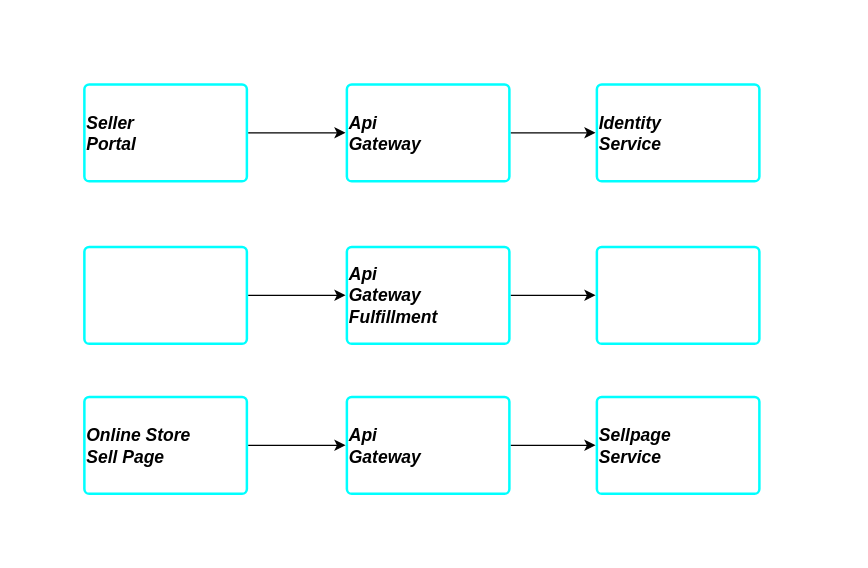
Image size: 868x568. Some labels were removed from this diagram. The shapes that lost their labels are listed below. From the top down, each one's centre as x and y in pixels, then its label:
point 165,294: Fulfillment Portal
point 677,294: Order Service
